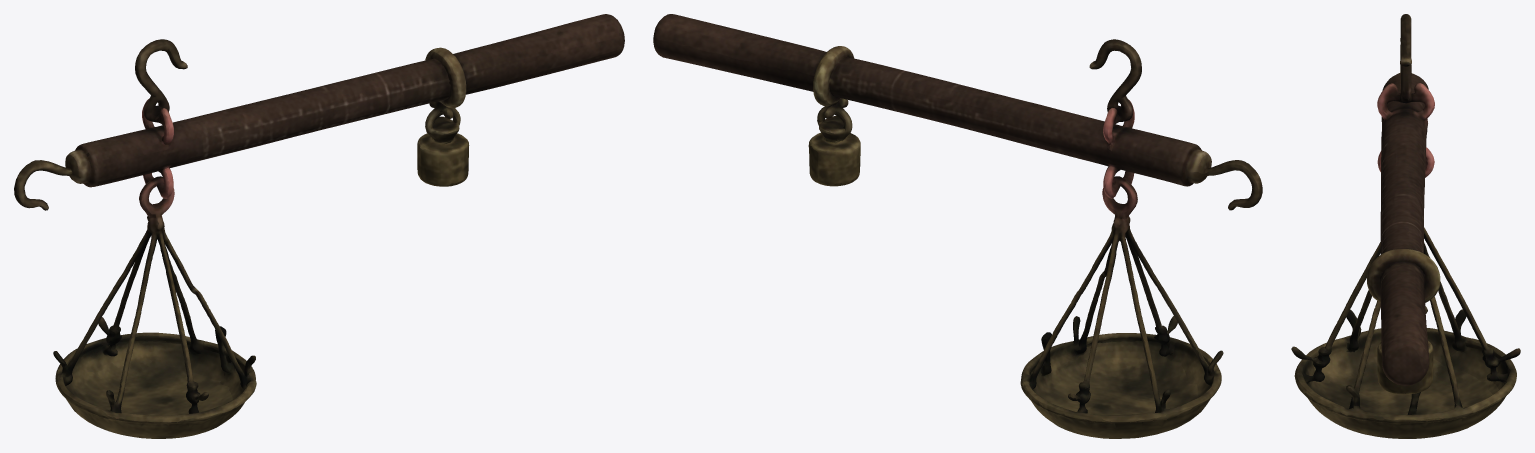
The model's file is dengzi-scale.glb.
The picture shows the model from 3 angles, left to right: view 1: azimuth 30°, elevation 25°; view 2: azimuth 150°, elevation 25°; view 3: azimuth 270°, elevation 25°; orthographic projection. The views are drawn at different scales.
Parts seen in each view (by area): view 1: geometry_0; view 2: geometry_0; view 3: geometry_0.
Part boxes in pixels (bbox=[...]): geometry_0: bbox=[14, 14, 624, 438]; geometry_0: bbox=[653, 14, 1262, 438]; geometry_0: bbox=[1291, 14, 1520, 438].
Size of the model in its own units: 0.35 by 0.2091 by 0.1085.
1 material, 1 textured.
